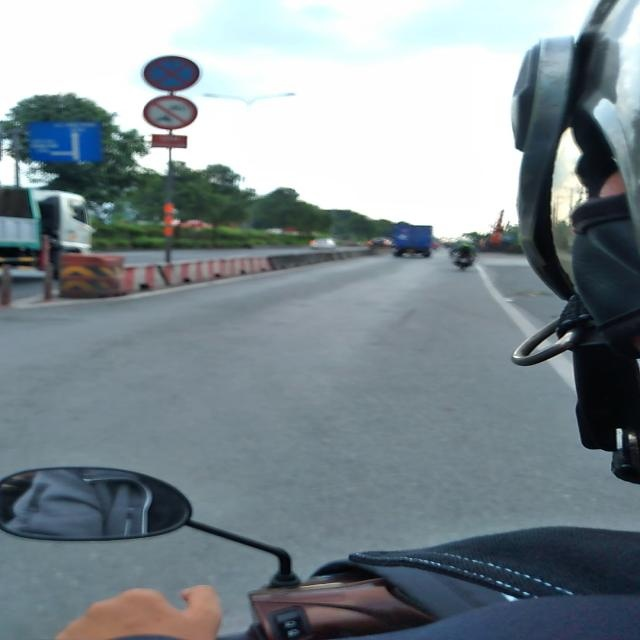bien_cam: (141, 55, 200, 91)
